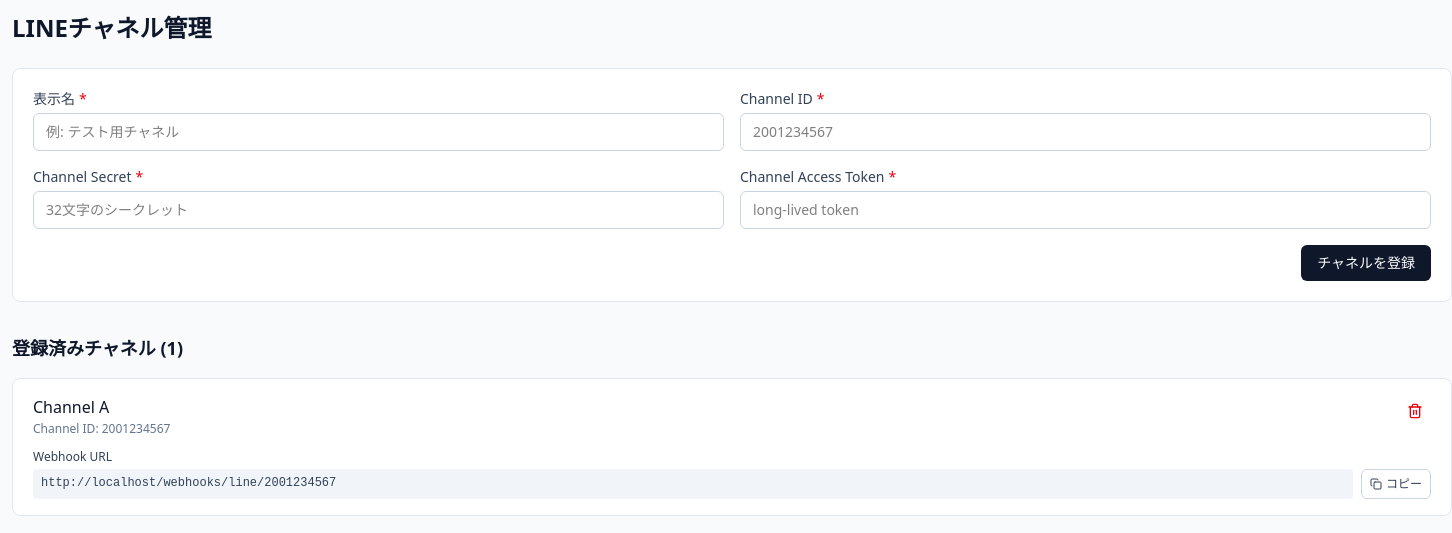
Test case: Channels Page › copies the webhook URL to clipboard and shows feedback
This screenshot has width=1452, height=533.
Step 1. Click the button with aria-label "Webhook URL をコピー" → click(1396, 484), box 1361,469 -> 1431,499
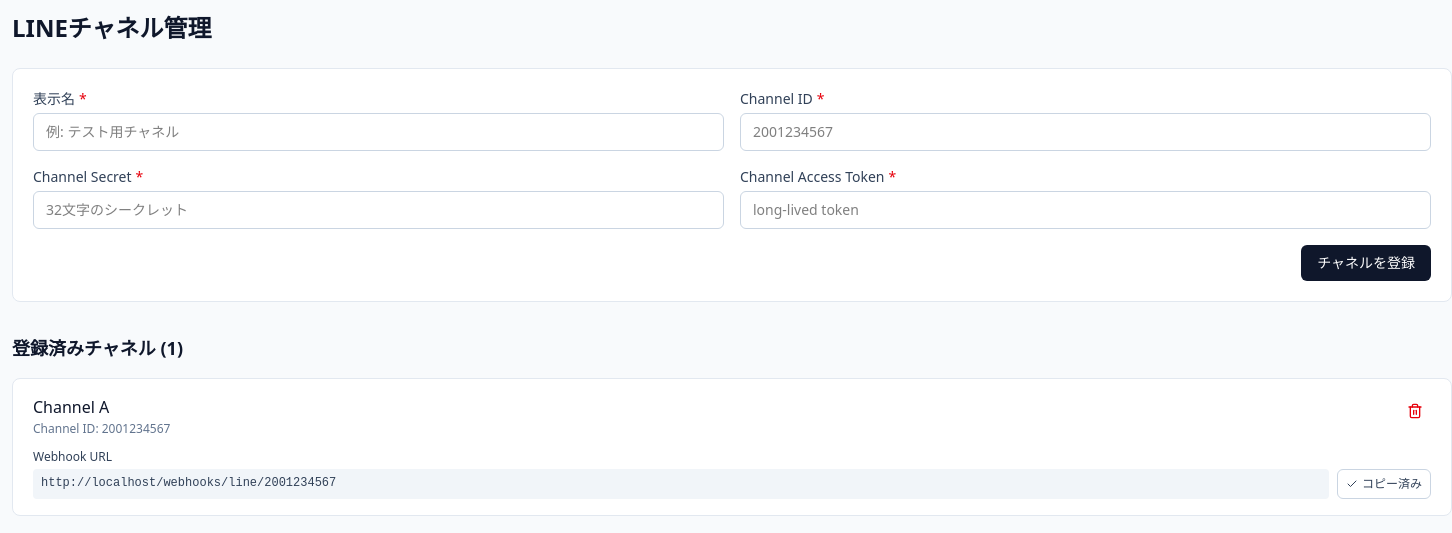
Expected: the button "コピー済み" is shown, 1337,469 -> 1431,499
